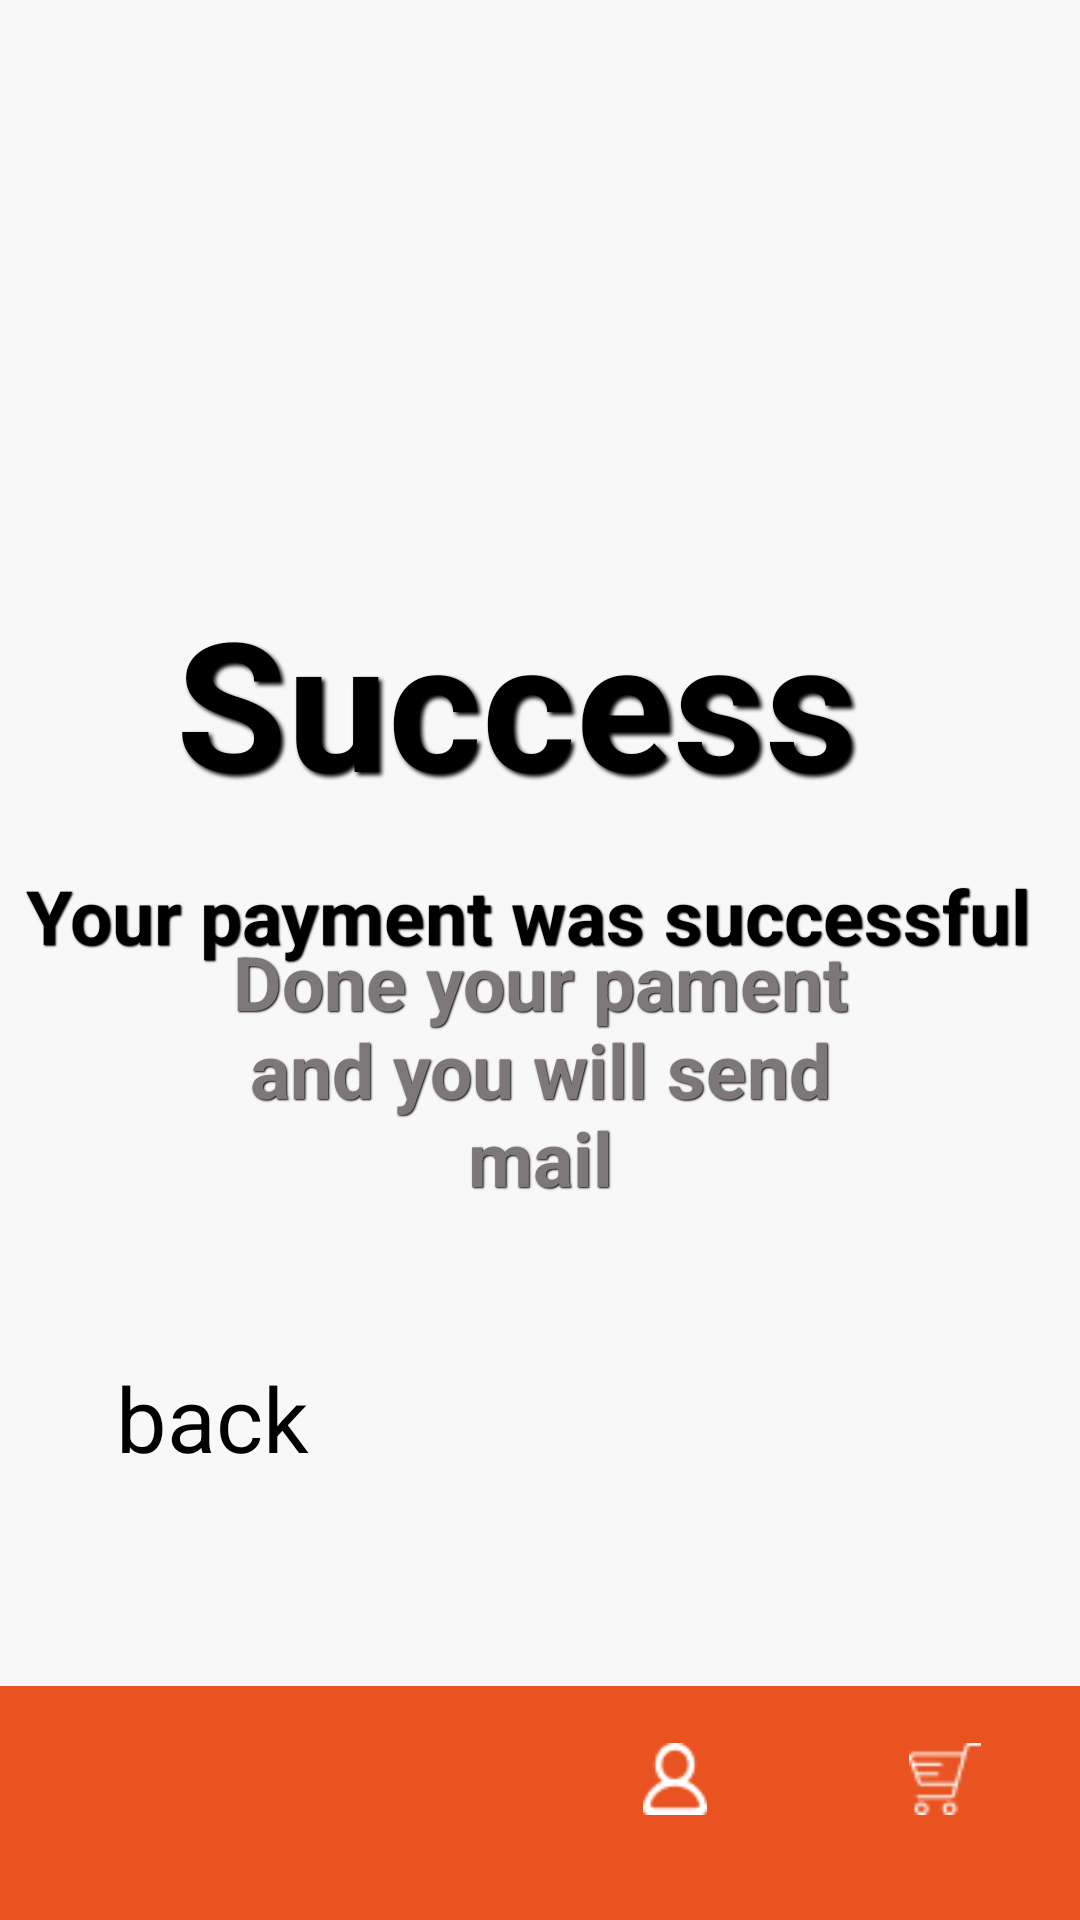

Where to tap for icons on this 1080*1920 app screen, as (x,y):
carticon: (945,1779)
profileicon: (675,1779)
